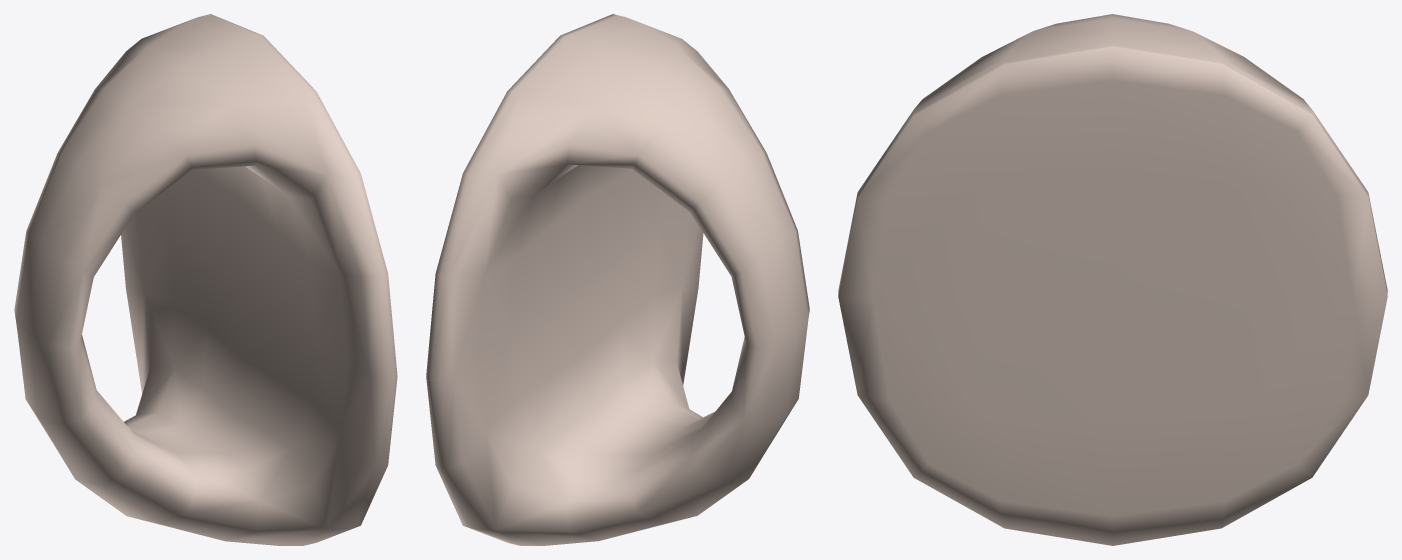
The model's file is window_handle_220905.fbx.
3 views of the same model, side by side, from view 1: azimuth 30°, elevation 25°; view 2: azimuth 150°, elevation 25°; view 3: azimuth 270°, elevation 25° (orthographic). The views are drawn at different scales.
Visible parts, largest first — view 1: Open_Working_Window001; view 2: Open_Working_Window001; view 3: Open_Working_Window001.
Boxes of the visible parts, x1=… form: Open_Working_Window001: x1=14, y1=14, x2=397, y2=545; Open_Working_Window001: x1=426, y1=14, x2=809, y2=545; Open_Working_Window001: x1=838, y1=14, x2=1387, y2=545.
Bounding box in the file's own units: 40.23 × 78.08 × 78.08.
